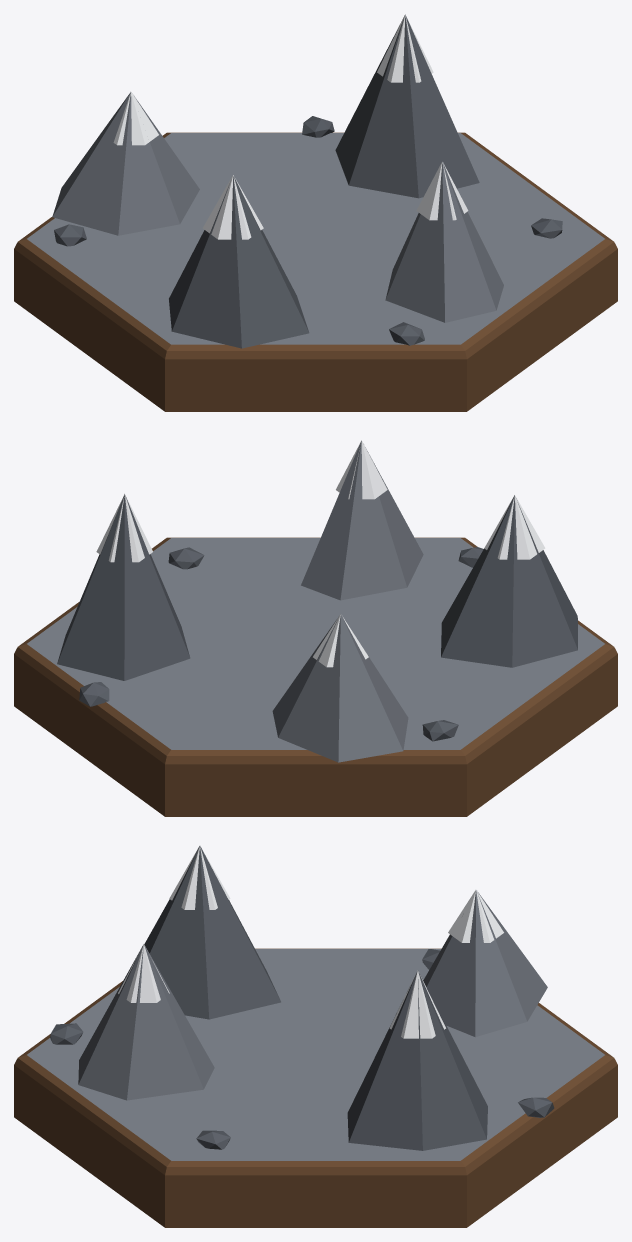
The model's file is tile_mountains.glb.
3 renders of one model, top to bottom at view 1: azimuth 30°, elevation 25°; view 2: azimuth 150°, elevation 25°; view 3: azimuth 270°, elevation 25°, orthographic.
Parts seen in each view (by area): view 1: tile_mountains; view 2: tile_mountains; view 3: tile_mountains.
Boxes of the visible parts, x1,y1,x2,y2 form: tile_mountains: (14,14,617,411); tile_mountains: (14,440,617,816); tile_mountains: (14,845,617,1227).
Bounding box in the file's own units: 1.67 × 0.7604 × 1.93.
